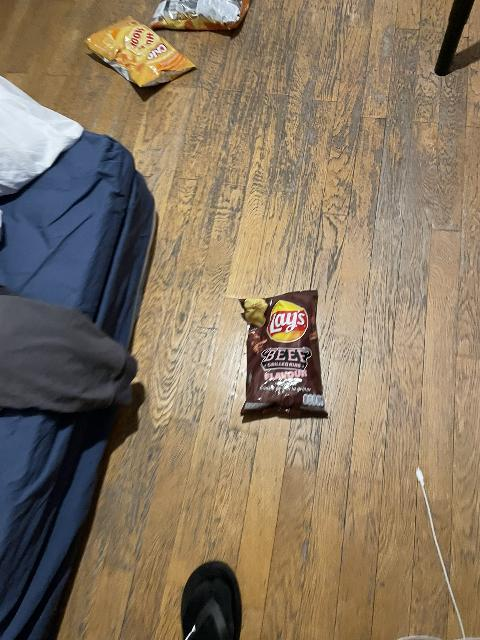Chio Cascaval 125g: (149, 1, 250, 31)
Chio Hula Hoops Cheese 70g: (84, 17, 200, 88)
Lays Beef Grilled Ribs 125g: (239, 290, 330, 418)
